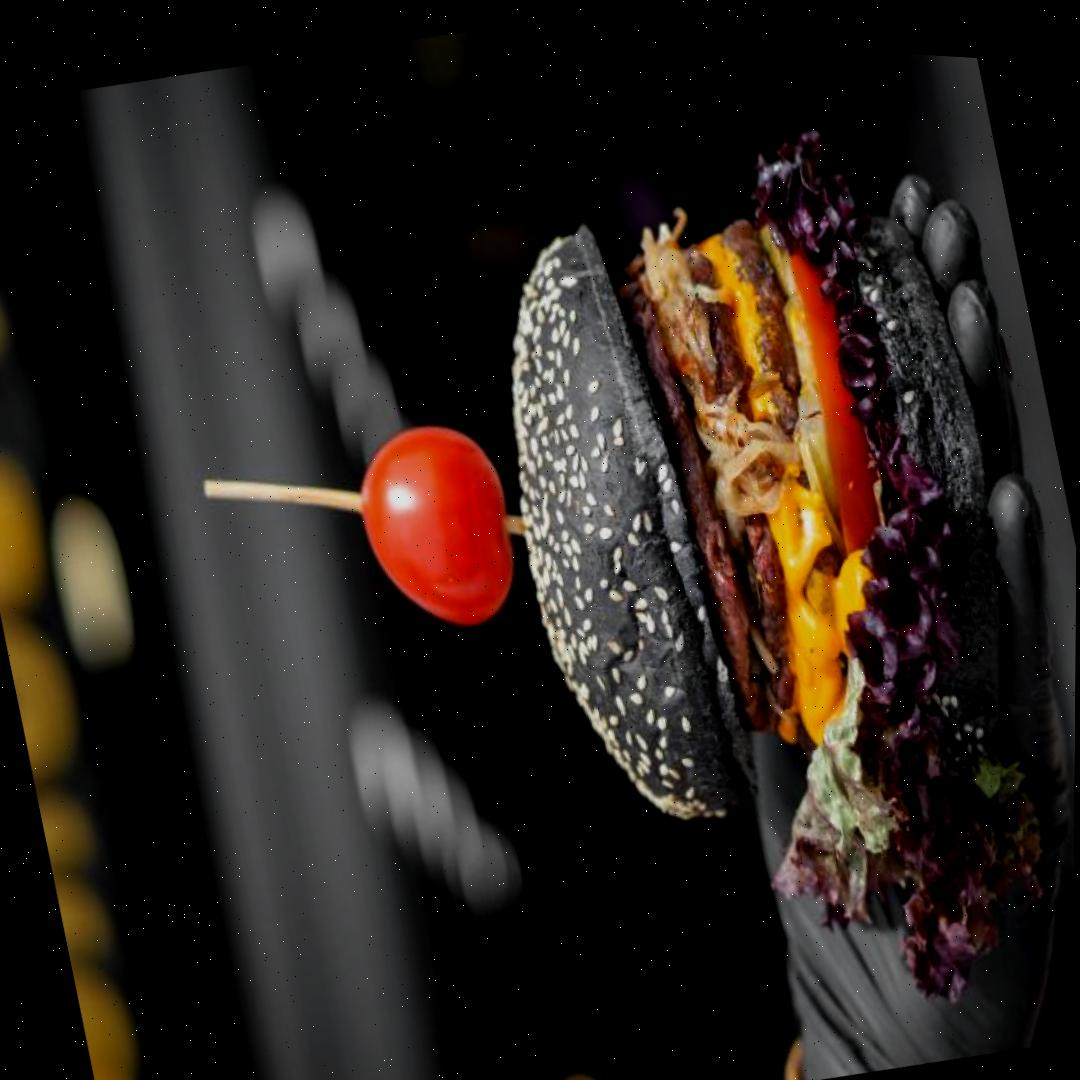matang: (346, 408, 531, 651)
